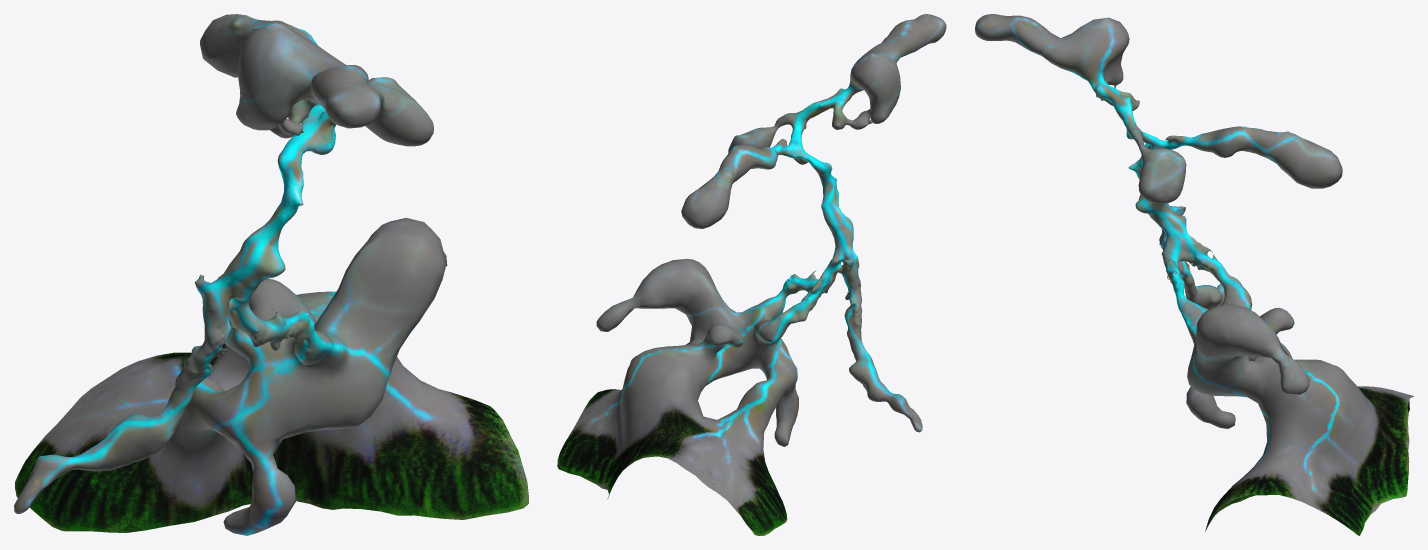
File: lightning_b.glb
The picture shows the model from 3 angles, left to right: view 1: azimuth 30°, elevation 25°; view 2: azimuth 150°, elevation 25°; view 3: azimuth 270°, elevation 25°; orthographic projection. The views are drawn at different scales.
Parts seen in each view (by area): view 1: geometry_0; view 2: geometry_0; view 3: geometry_0.
Part boxes in pixels (bbox=[...]): geometry_0: bbox=[14, 14, 528, 535]; geometry_0: bbox=[557, 14, 946, 535]; geometry_0: bbox=[975, 14, 1413, 535].
Size of the model in its own units: 0.3808 by 0.4522 by 0.4302.
Materials: 1 (1 with a texture image).
